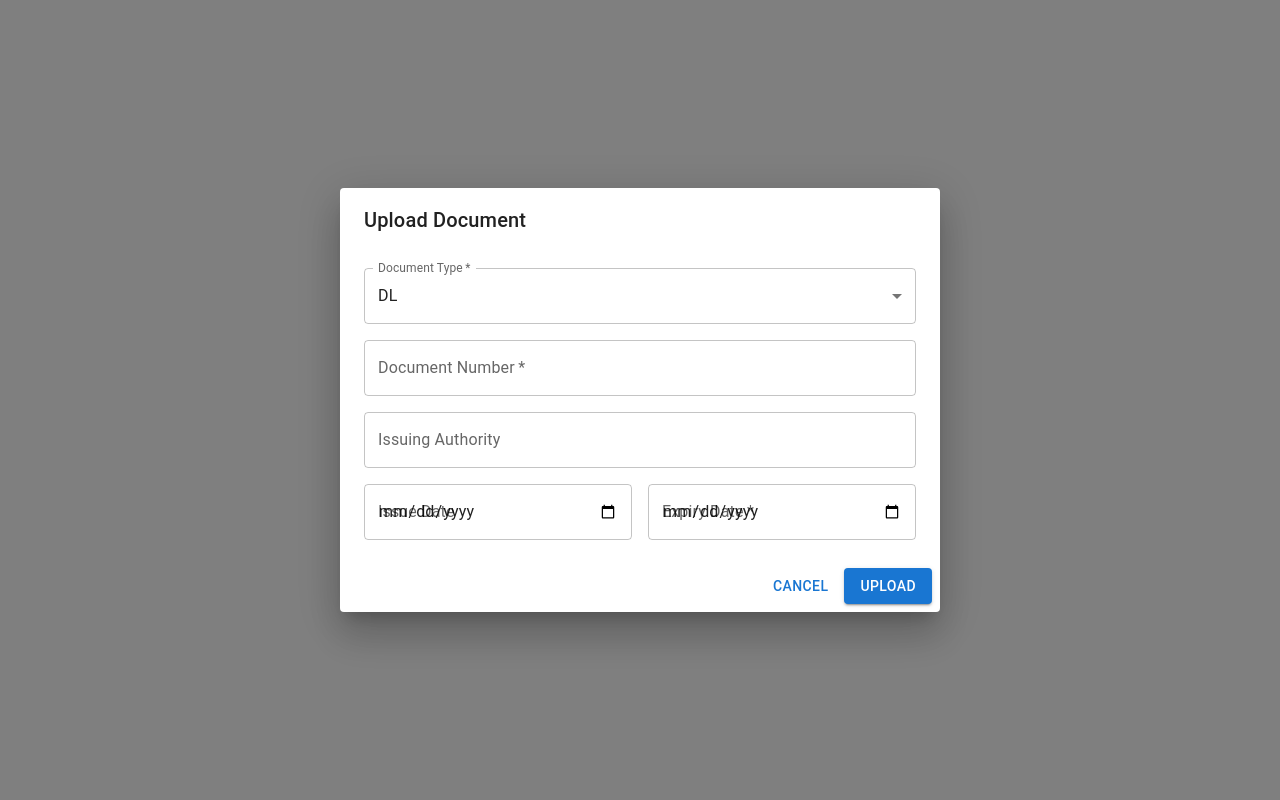
Test: DocumentUploadDialog › DL number field shows validation error on bad format
DL is default type
Step 1. Type "BAD123" into the field labelled "Document Number *" → (640, 368), box [364,340,916,396]
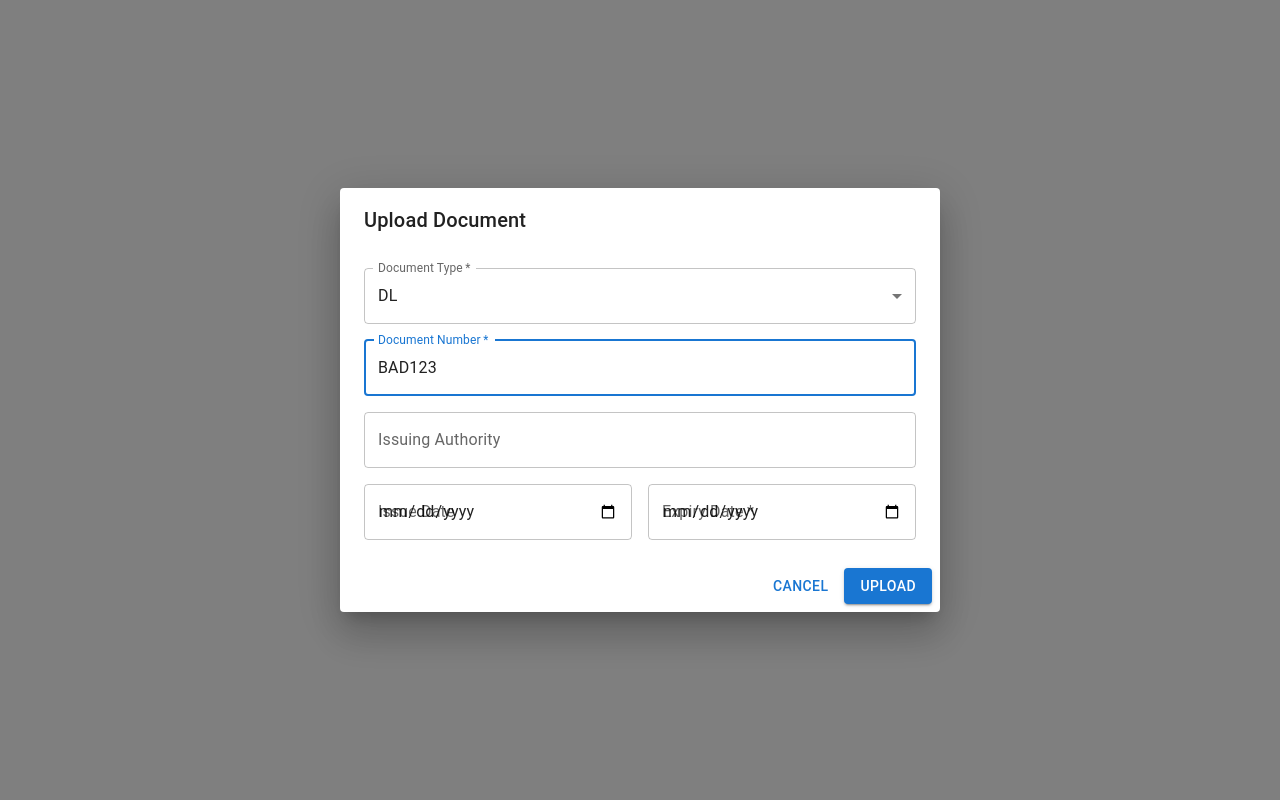
Step 2. Click the button "Upload" → click(888, 586), box [844,568,932,604]
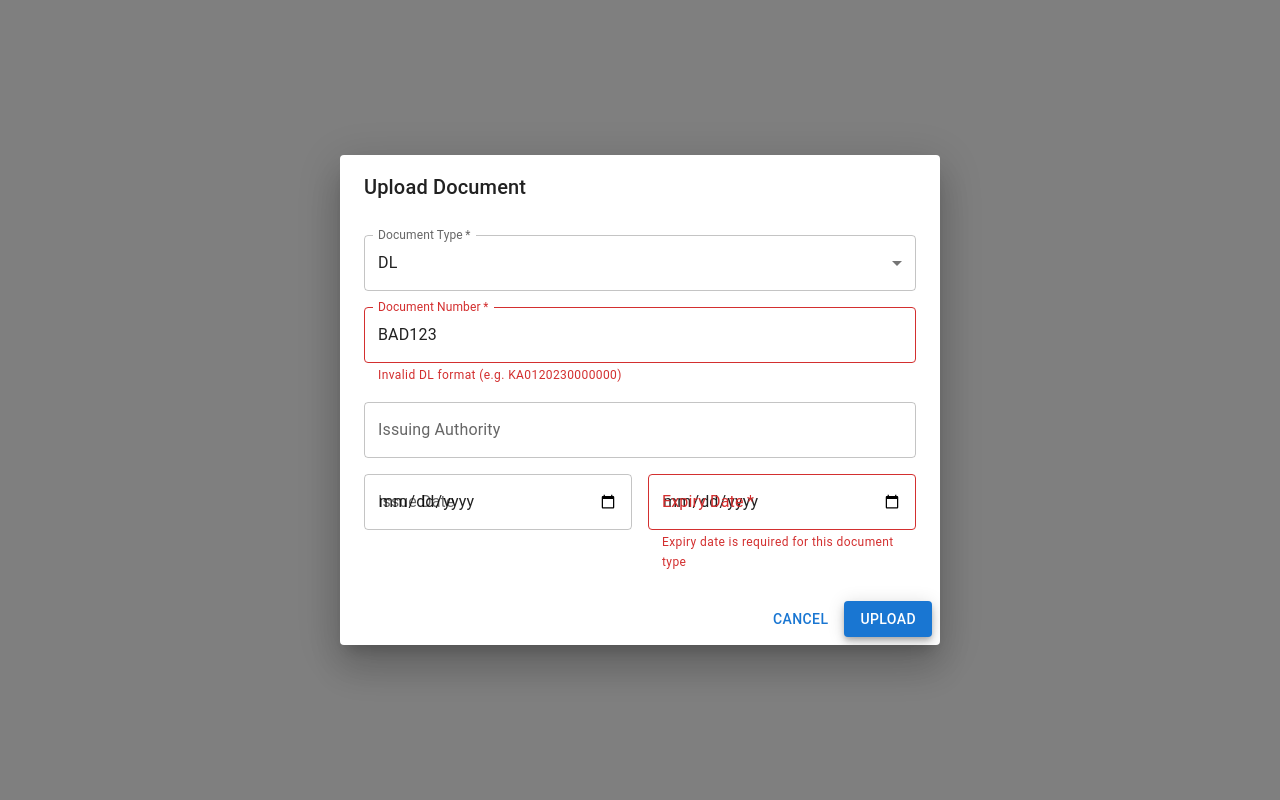
Now the text "Invalid DL format (e.g. KA0120230000000)" is shown, box [378,368,622,382]
